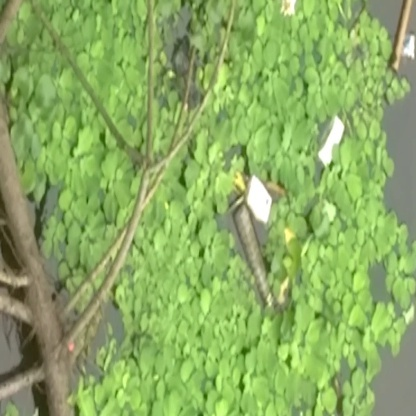branch: (1, 108, 107, 416)
